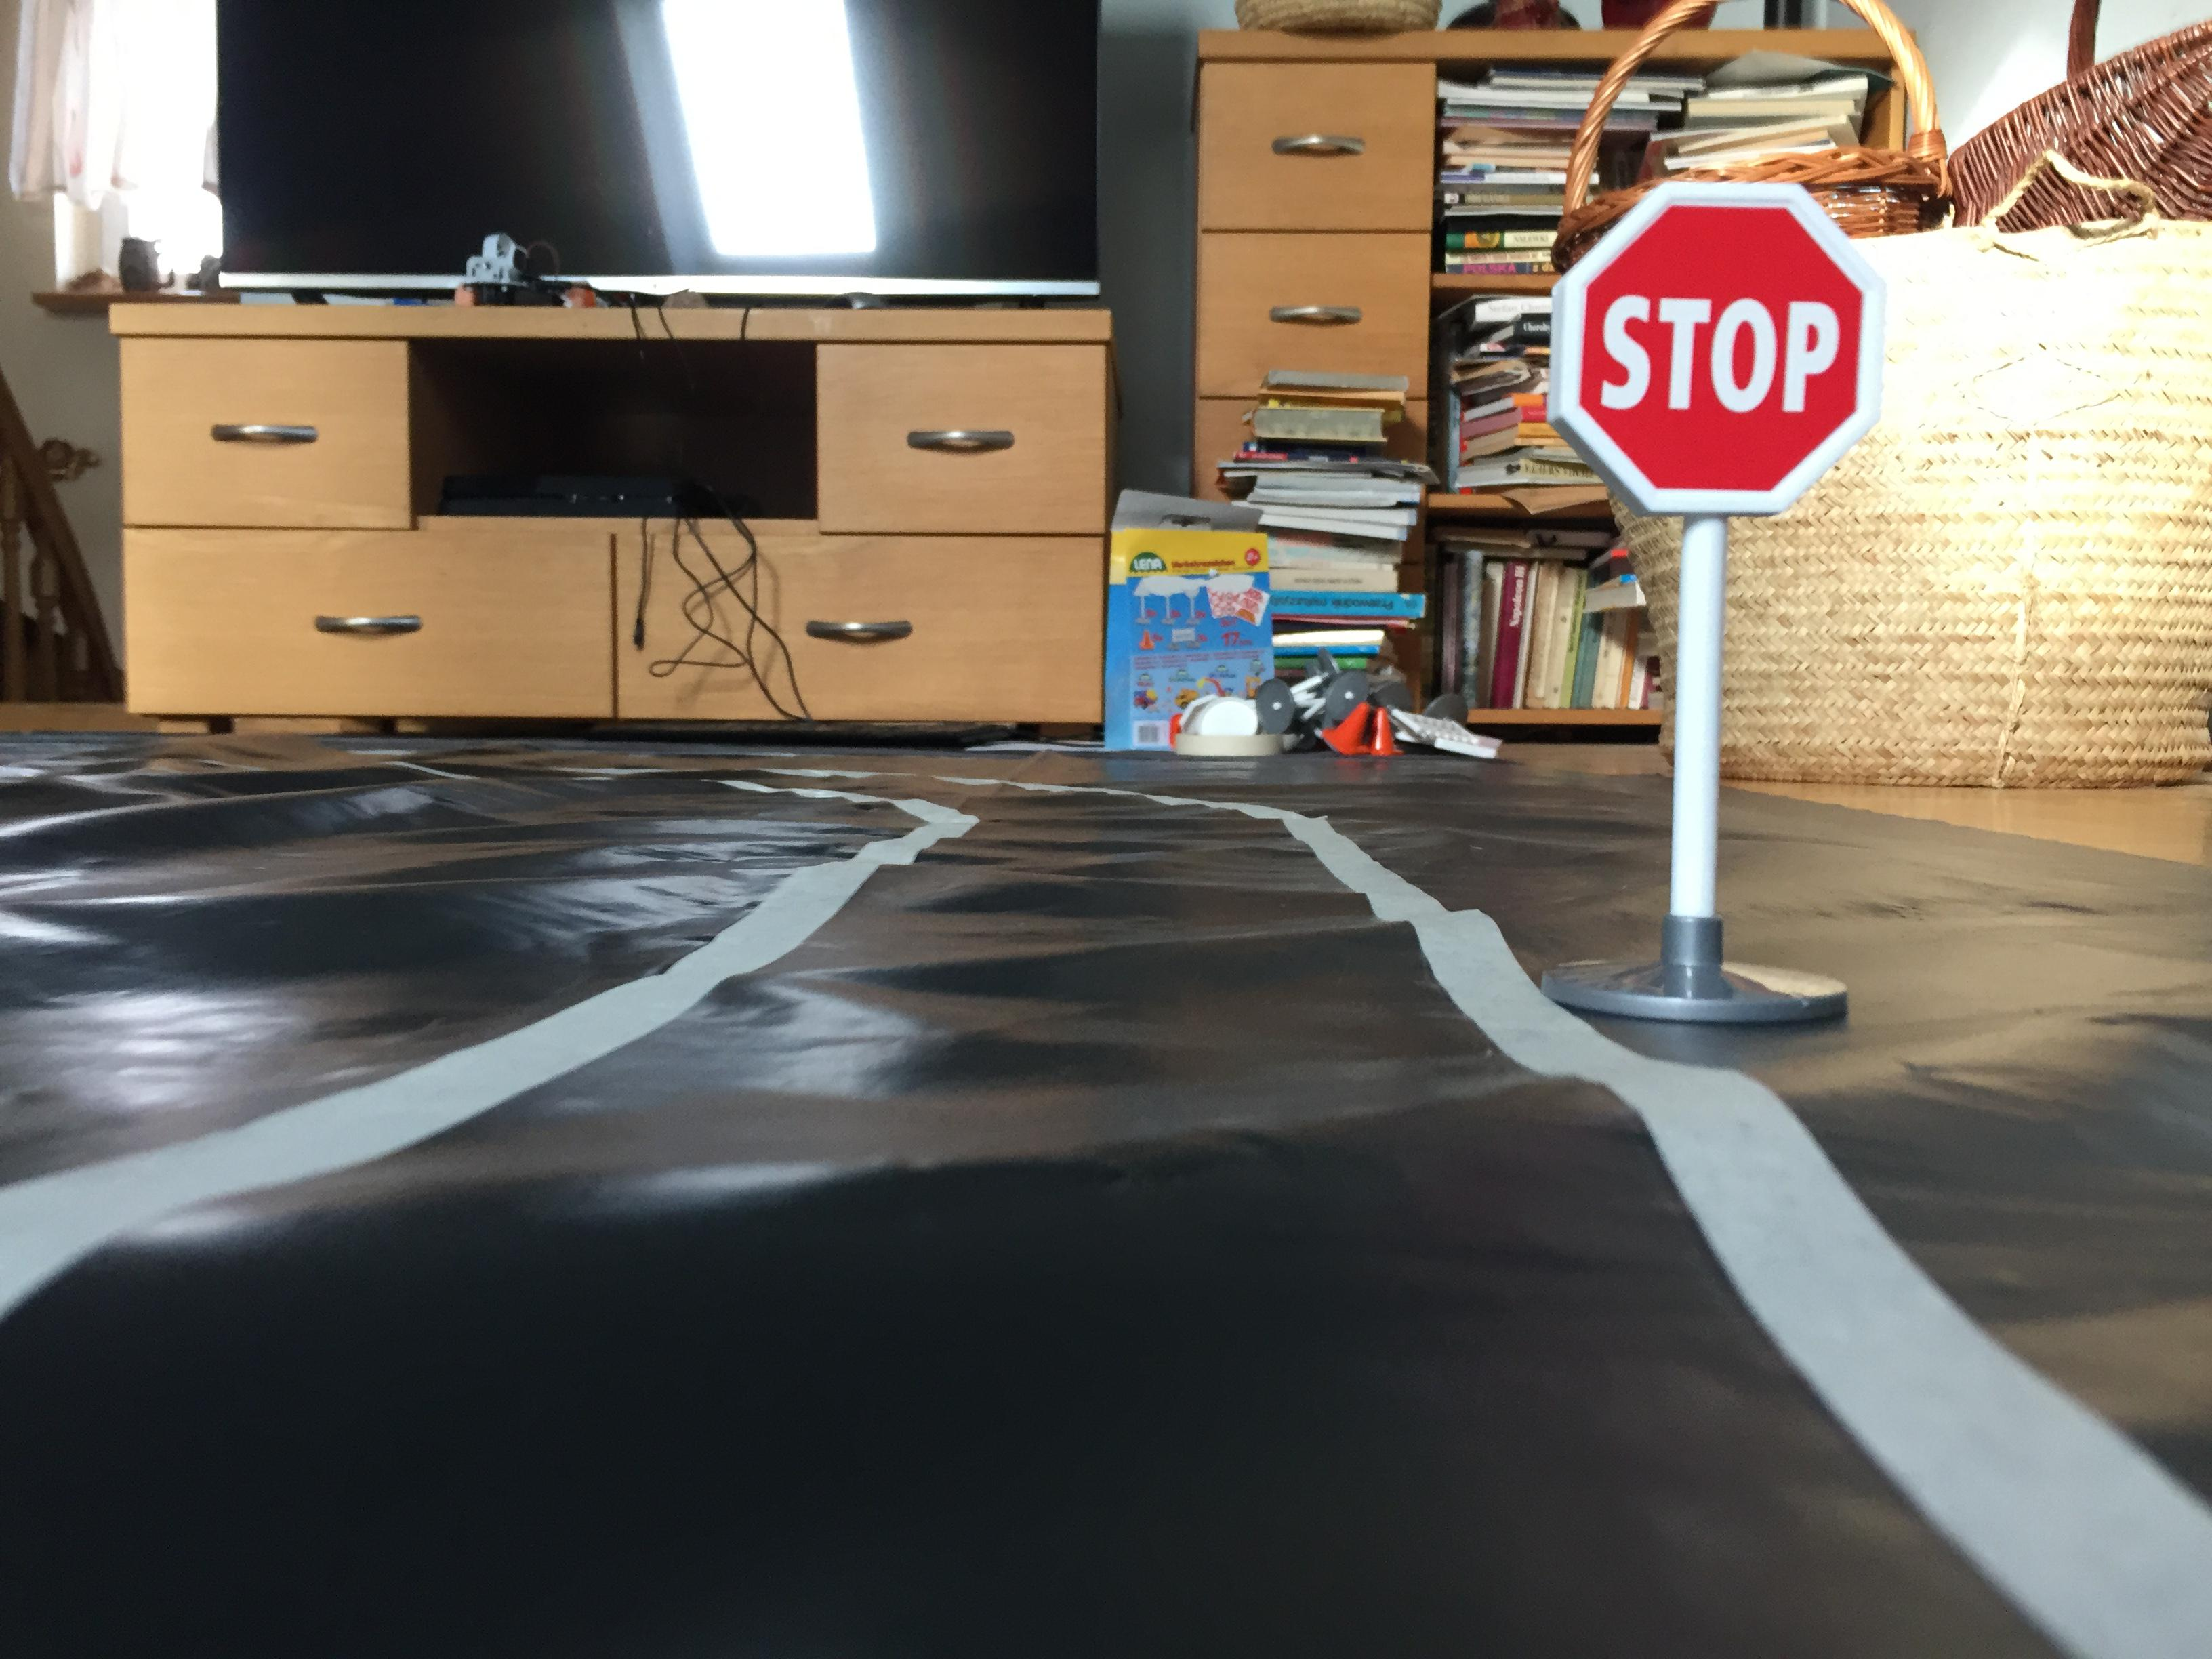stop: (1543, 174, 1895, 525)
